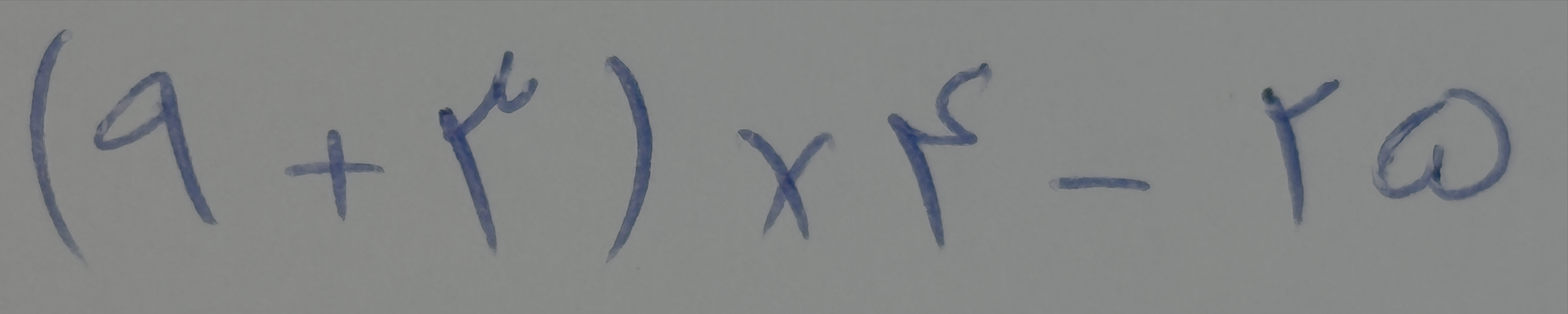character: (438, 50, 538, 257), (94, 70, 219, 226), (888, 62, 992, 248), (1371, 86, 1510, 201), (30, 28, 89, 268), (1261, 79, 1340, 227), (602, 55, 654, 265), (737, 128, 835, 239), (284, 129, 385, 222), (1046, 176, 1150, 192)
